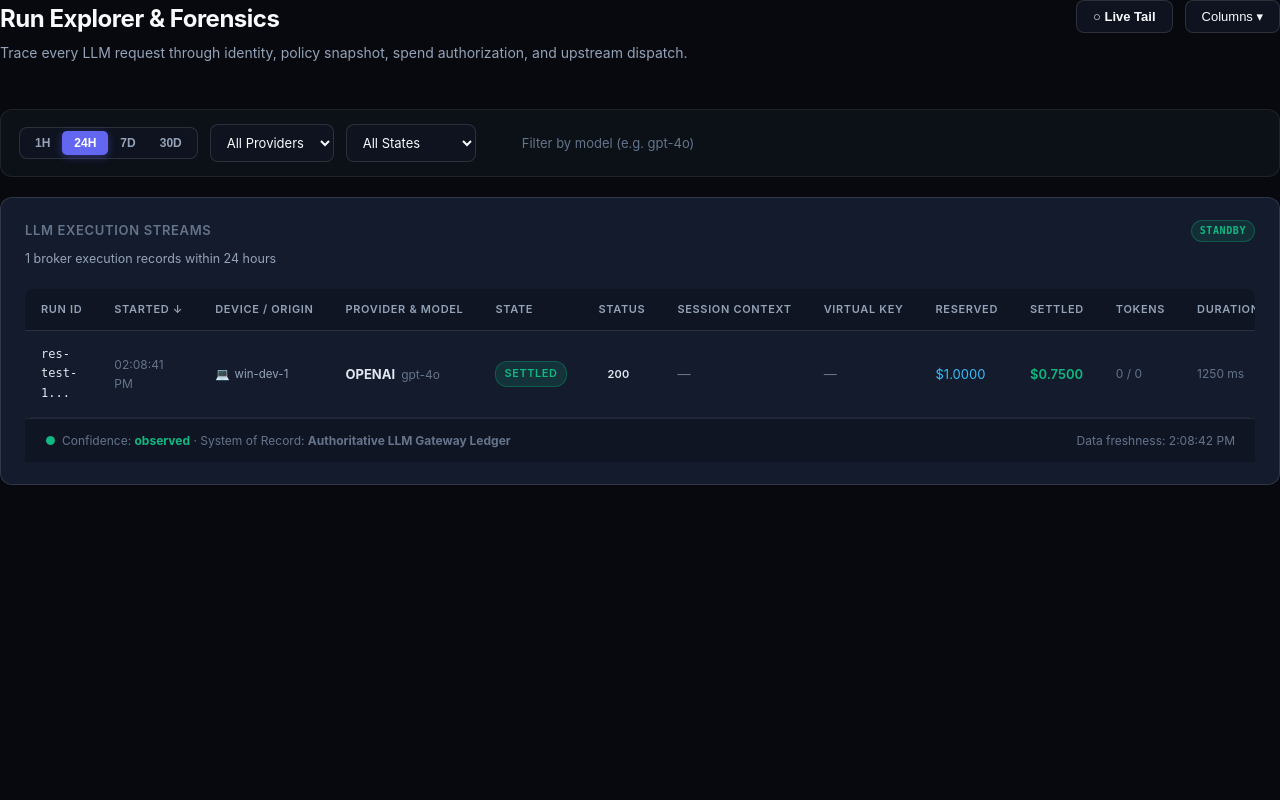
it: RunExplorer View › opens dossier drawer on row click
Expected: the text "OPENAI" is shown, [346,366,395,382]
What coordinates should you click on to do the following:
click the text "OPENAI"
I would click on:
 (650, 374)
Its box is [25,331,1276,418].
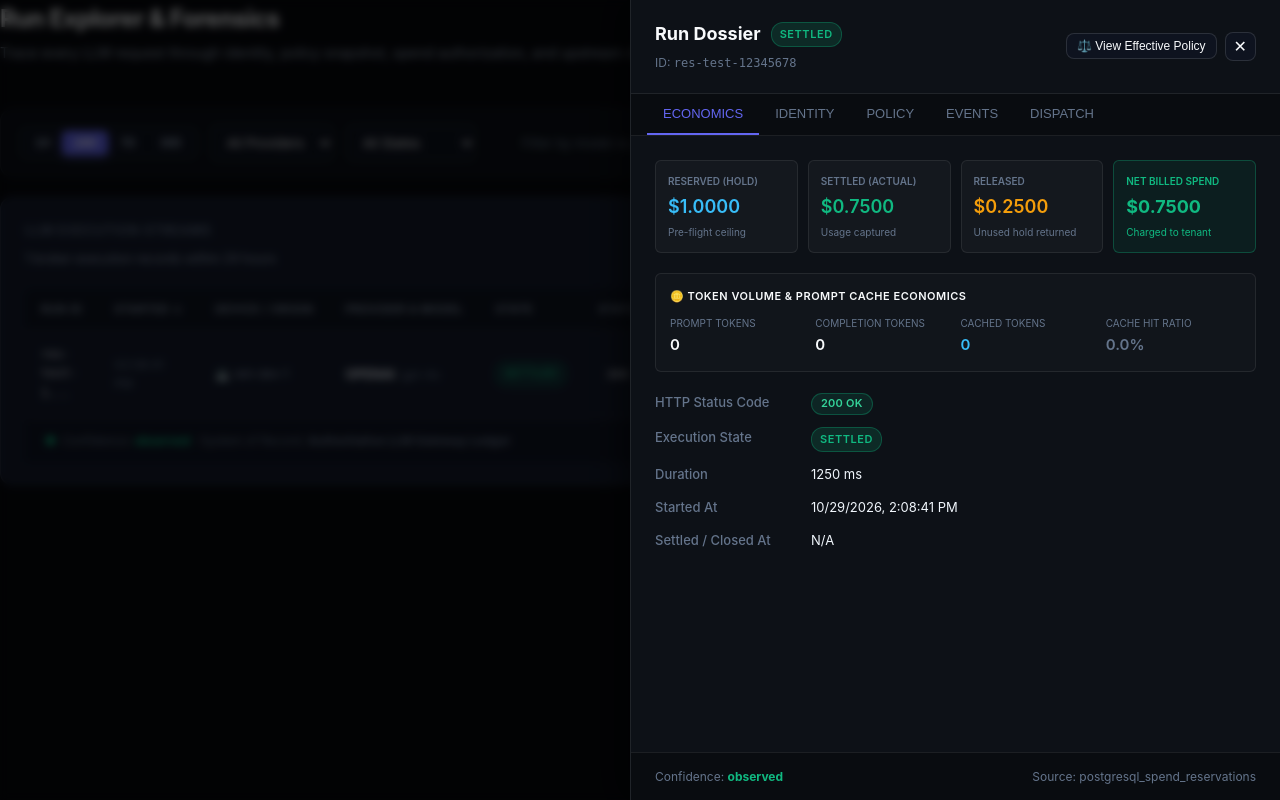
Now the heading "Run Dossier" is shown, box [655,20,761,49]
Now the text "RESERVED (HOLD)" is shown, box [668,175,758,187]
Now the text "SETTLED (ACTUAL)" is shown, box [821,175,916,187]
